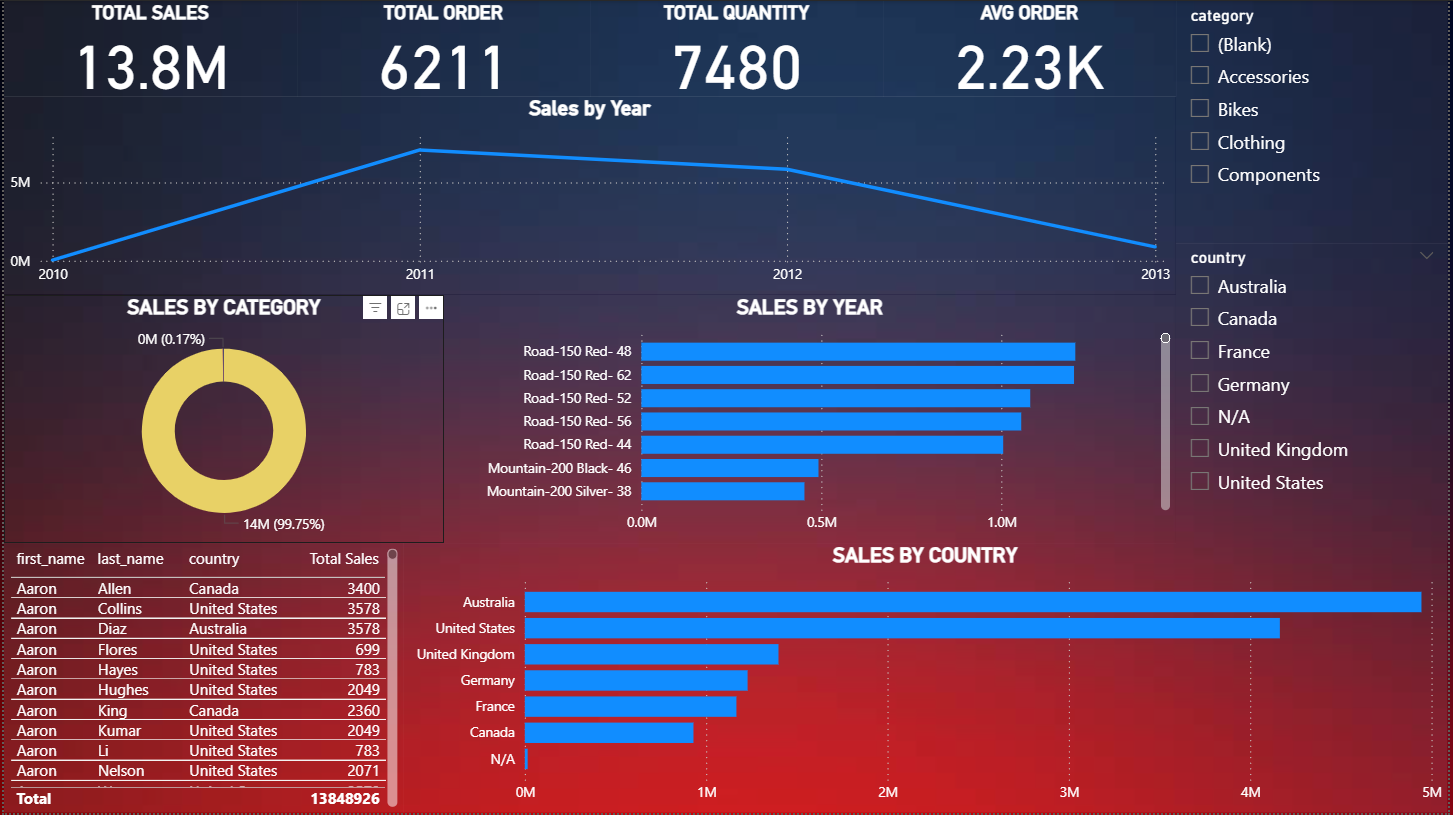

The page's visual inventory and layout, read from the dashboard file:
{"tool":"powerbi","page":{"name":"Page 1","canvas":[1280,720],"ordinal":0},"visuals":[{"type":"card","title":"TOTAL SALES","fields":{"Values":["gold dim_customers.Total Sales"]},"box":[0,0,259.7,84.6],"z":0},{"type":"lineChart","title":"Sales by Year","fields":{"Category":["gold fact_sales.order_date.Variation.Date Hierarchy.Year","gold fact_sales.order_date.Variation.Date Hierarchy.Quarter","gold fact_sales.order_date.Variation.Date Hierarchy.Month","gold fact_sales.order_date.Variation.Date Hierarchy.Day"],"Y":["gold dim_customers.Total Sales"]},"box":[0,84.6,1038.8,176],"z":1000},{"type":"card","title":"TOTAL ORDER","fields":{"Values":["gold dim_customers.Total Orders"]},"box":[259.7,0,259.7,84.6],"z":2000},{"type":"card","title":"TOTAL QUANTITY","fields":{"Values":["gold dim_customers.Total Quantity"]},"box":[519.4,0,259.7,84.6],"z":3000},{"type":"card","title":"AVG ORDER","fields":{"Values":["gold dim_customers.Avg Order Value"]},"box":[779.1,0,259.7,84.6],"z":4000},{"type":"donutChart","title":"SALES BY CATEGORY","fields":{"Y":["gold dim_customers.Total Sales"],"Category":["gold dim_products.category"]},"box":[0,260.7,390,219.8],"z":5000},{"type":"barChart","title":"SALES BY YEAR","fields":{"Y":["gold dim_customers.Total Sales"],"Category":["gold dim_products.product_name"]},"box":[390,260.7,648.8,219.8],"z":6000},{"type":"slicer","title":"Sales by Year","fields":{"Values":["gold dim_products.category"]},"box":[1038.8,0,241.2,215],"z":7000},{"type":"slicer","title":"Sales by Year","fields":{"Values":["gold dim_customers.country"]},"box":[1038.8,215,241.2,265.5],"z":8000},{"type":"barChart","title":"SALES BY COUNTRY","fields":{"Y":["gold dim_customers.Total Sales"],"Category":["gold dim_customers.country"]},"box":[354,480.5,926,239.3],"z":9000},{"type":"tableEx","title":"SALES BY CATEGORY","fields":{"Values":["gold dim_customers.first_name","gold dim_customers.last_name","gold dim_customers.country","gold dim_customers.Total Sales"]},"box":[0,480.5,354,239.3],"z":10000}]}

Visuals, with their boxes in screenshot pixels (x1, y1, x2, y2), scaled from the page's 1280x720 canvas onto the 1453x815 screenshot:
"TOTAL SALES" card: Rect(0, 0, 295, 96)
"Sales by Year" lineChart: Rect(0, 96, 1179, 295)
"TOTAL ORDER" card: Rect(295, 0, 590, 96)
"TOTAL QUANTITY" card: Rect(590, 0, 884, 96)
"AVG ORDER" card: Rect(884, 0, 1179, 96)
"SALES BY CATEGORY" donutChart: Rect(0, 295, 443, 544)
"SALES BY YEAR" barChart: Rect(443, 295, 1179, 544)
"Sales by Year" slicer: Rect(1179, 0, 1452, 243)
"Sales by Year" slicer: Rect(1179, 243, 1452, 544)
"SALES BY COUNTRY" barChart: Rect(402, 544, 1452, 814)
"SALES BY CATEGORY" tableEx: Rect(0, 544, 402, 814)
